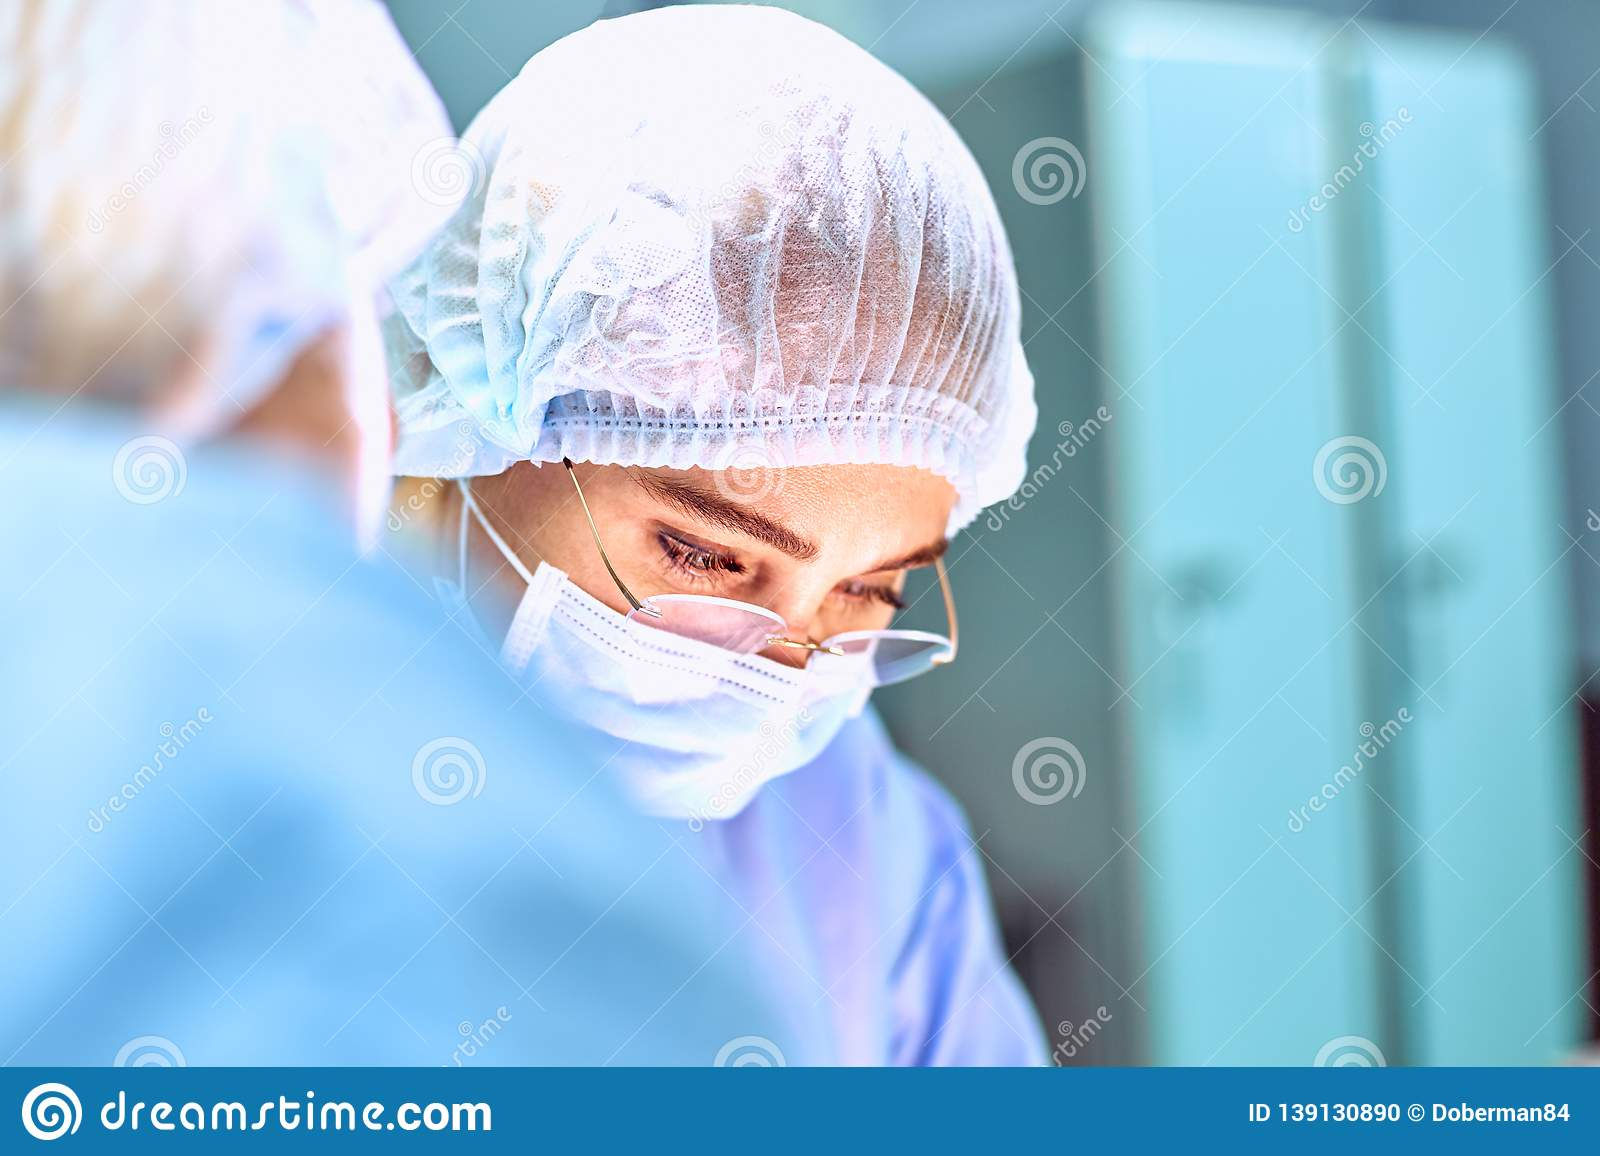mask: (493, 566, 899, 848)
